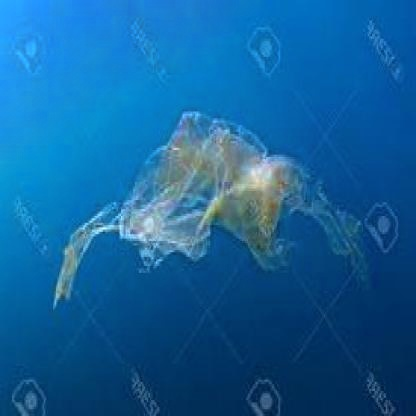pbag: (46, 104, 370, 312)
